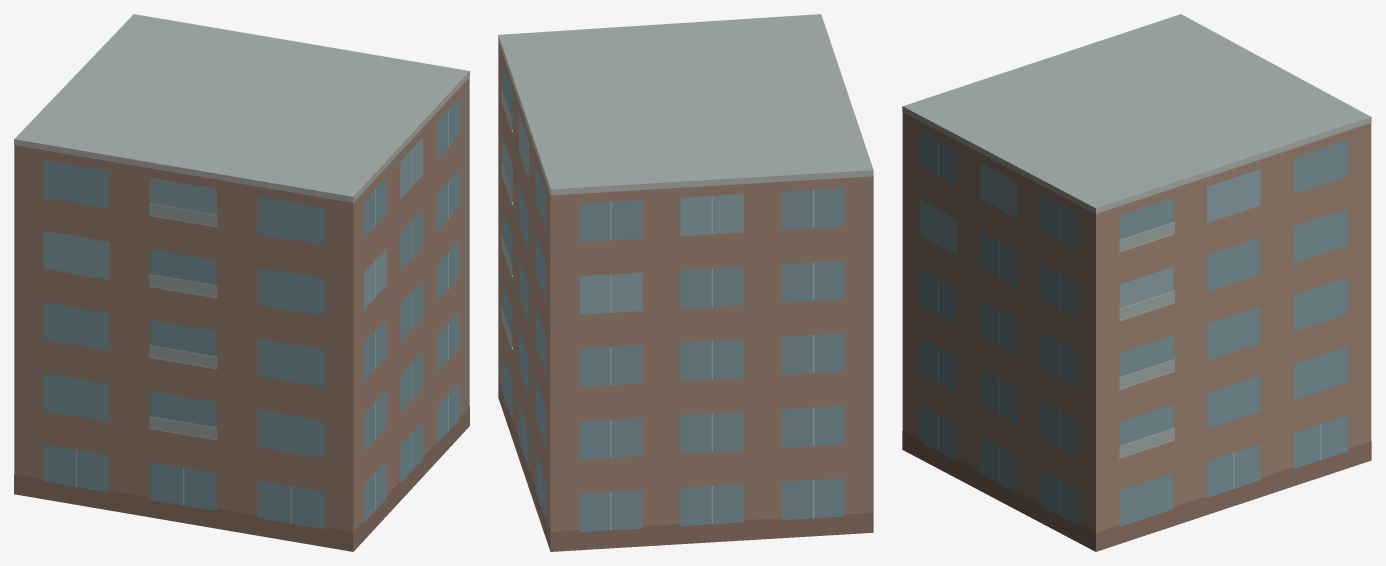
File: survey-upis-32828619.glb
The picture shows the model from 3 angles, left to right: view 1: azimuth 30°, elevation 25°; view 2: azimuth 150°, elevation 25°; view 3: azimuth 270°, elevation 25°; orthographic projection. The views are drawn at different scales.
Parts seen in each view (by area): view 1: survey-upis-32828619.tmp; view 2: survey-upis-32828619.tmp; view 3: survey-upis-32828619.tmp.
Part boxes in pixels (bbox=[...]): survey-upis-32828619.tmp: bbox=[14, 14, 469, 551]; survey-upis-32828619.tmp: bbox=[498, 14, 873, 551]; survey-upis-32828619.tmp: bbox=[902, 14, 1371, 551].
Bounding box in the file's own units: 17.6 × 14.5 × 17.95.
